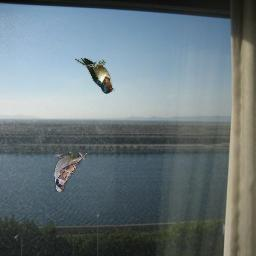Sparrow: (54, 152, 87, 192)
Swallow: (75, 58, 115, 94)
